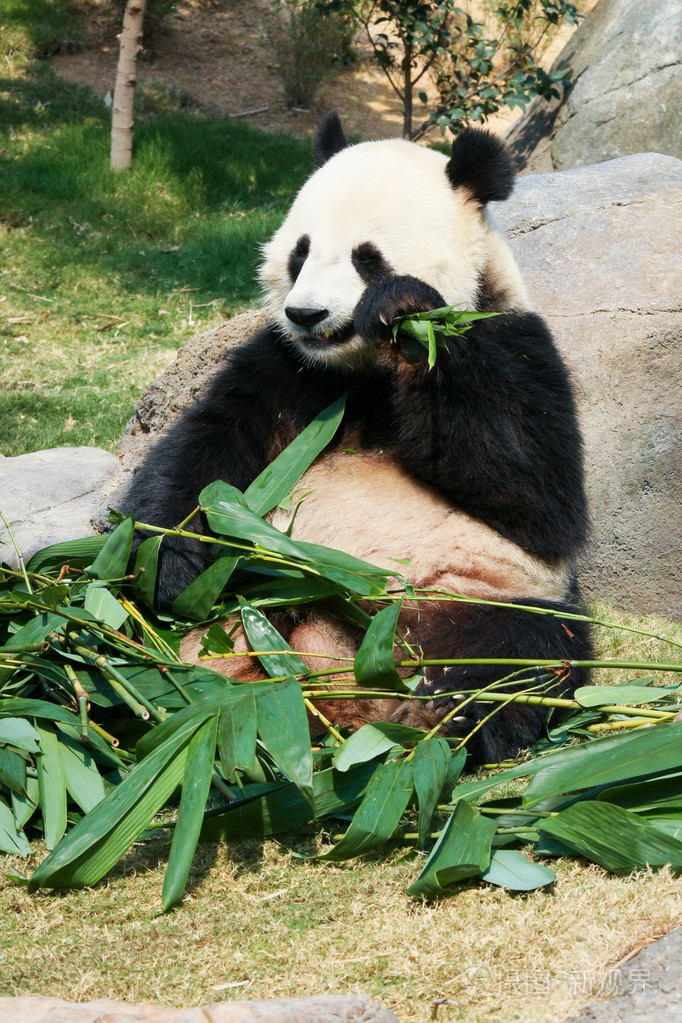panda: (87, 109, 603, 777)
